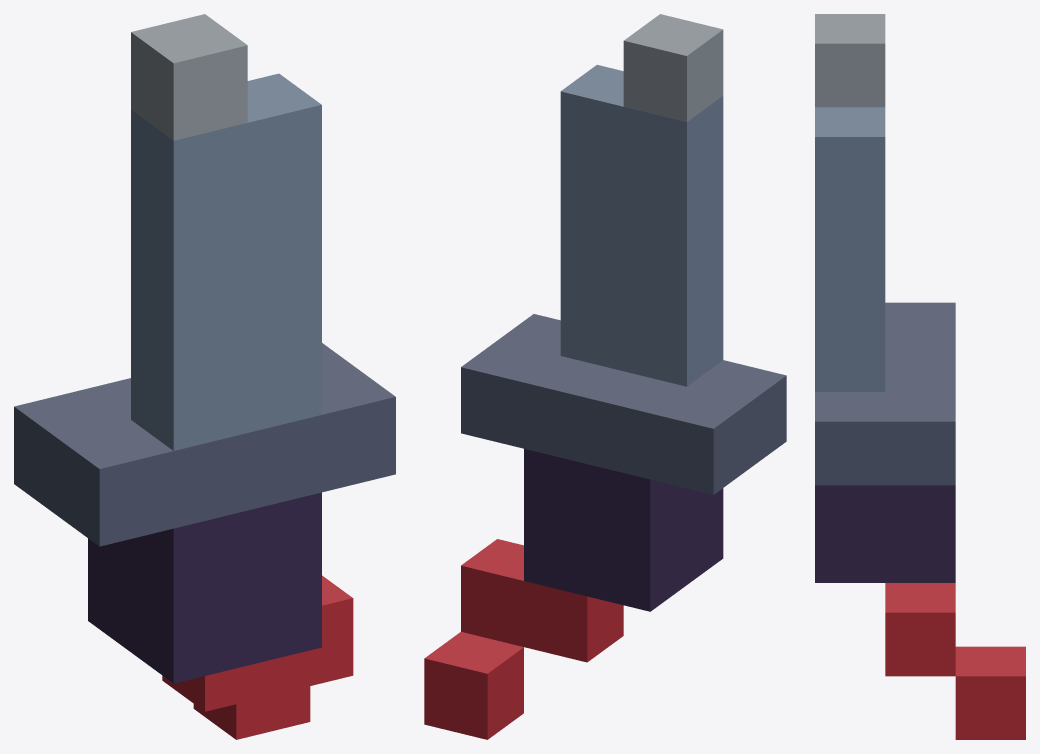
File: Weapon_ThrowingDagger.glb
The picture shows the model from 3 angles, left to right: view 1: azimuth 30°, elevation 25°; view 2: azimuth 150°, elevation 25°; view 3: azimuth 270°, elevation 25°; orthographic projection. The views are drawn at different scales.
Parts seen in each view (by area): view 1: Weapon_ThrowingDagger; view 2: Weapon_ThrowingDagger; view 3: Weapon_ThrowingDagger.
Boxes of the visible parts, <box> form: Weapon_ThrowingDagger: <box>14,14,395,739</box>; Weapon_ThrowingDagger: <box>424,14,786,739</box>; Weapon_ThrowingDagger: <box>815,14,1025,739</box>.
Bounding box in the file's own units: 1 × 2.5 × 0.75.
